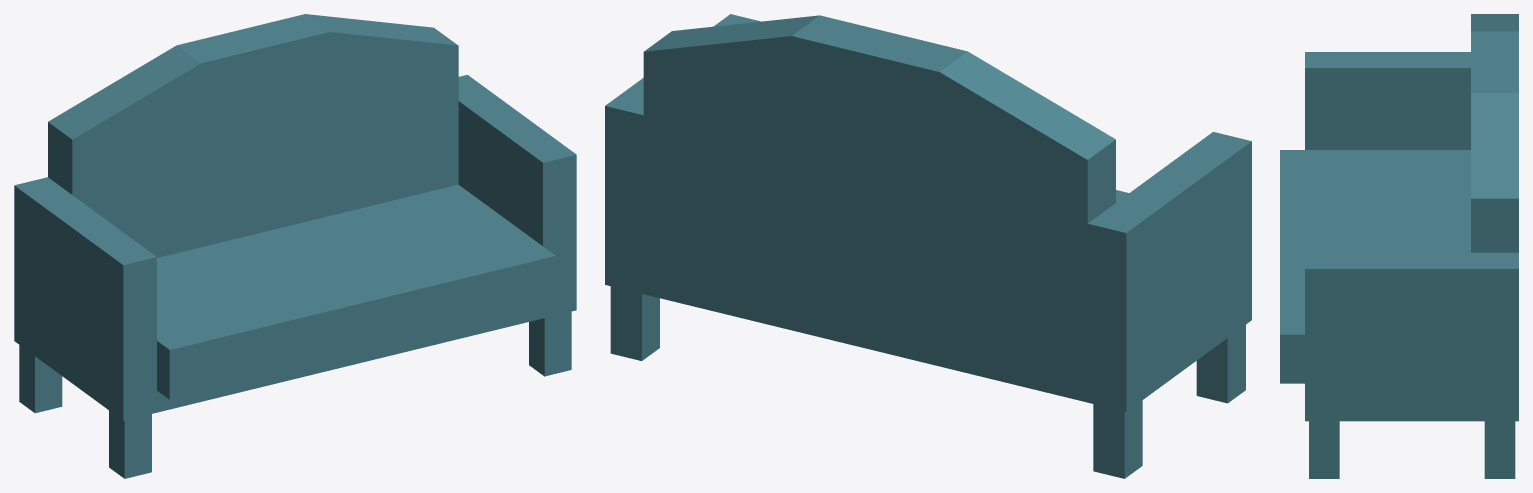
The model's file is Sofa.fbx.
3 renders of one model, left to right at view 1: azimuth 30°, elevation 25°; view 2: azimuth 150°, elevation 25°; view 3: azimuth 270°, elevation 25°, orthographic. The views are drawn at different scales.
Visible parts, largest first — view 1: Prop_Couch_07; view 2: Prop_Couch_07; view 3: Prop_Couch_07.
Boxes of the visible parts, x1,y1,x2,y2 form: Prop_Couch_07: [14, 14, 576, 478]; Prop_Couch_07: [605, 14, 1251, 478]; Prop_Couch_07: [1280, 14, 1518, 478].
Bounding box in the file's own units: 132 × 88.24 × 61.66.
